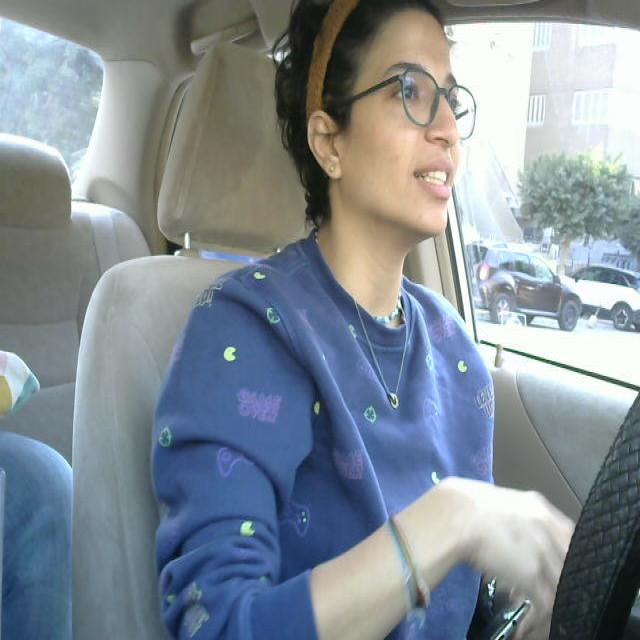mobile use: (464, 588, 536, 634)
